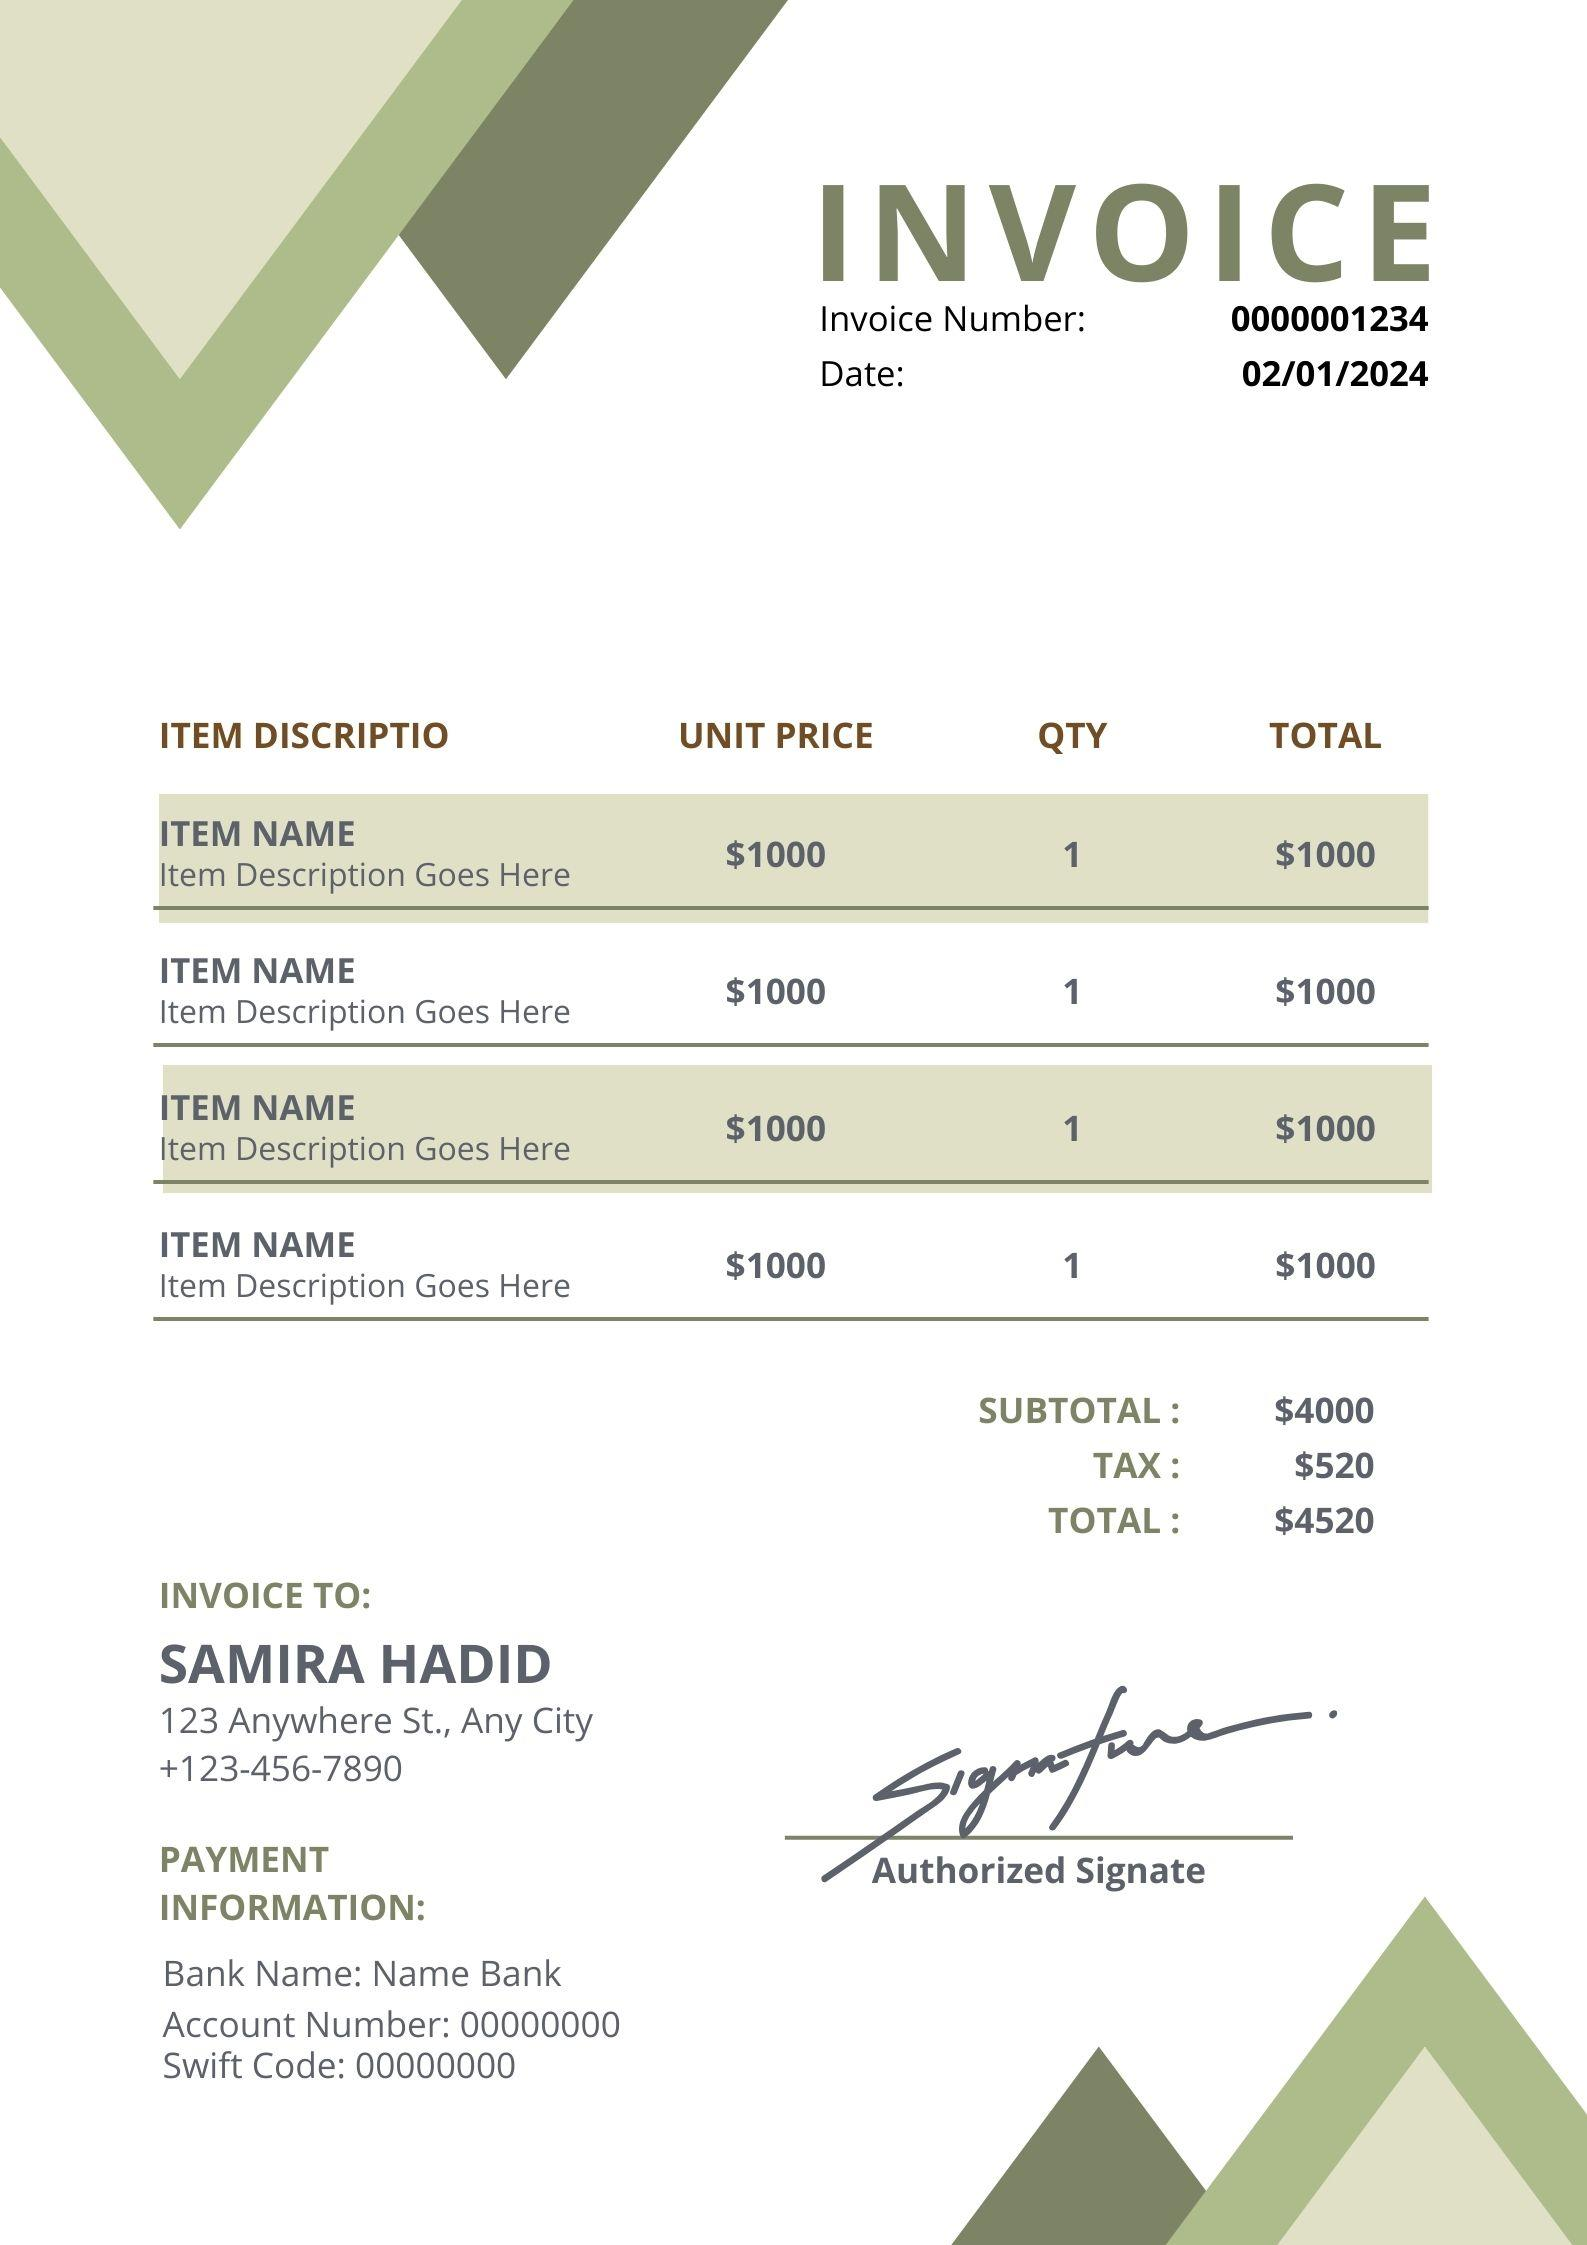ROI: (140, 692, 1460, 1344), (147, 1834, 643, 2101), (147, 1559, 608, 1810), (807, 289, 1449, 414), (956, 1376, 1378, 1566)
